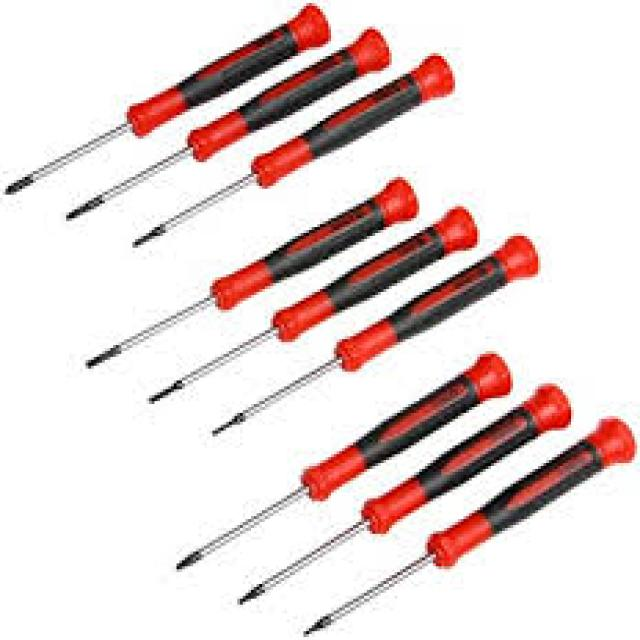screw driver: (10, 20, 453, 254)
